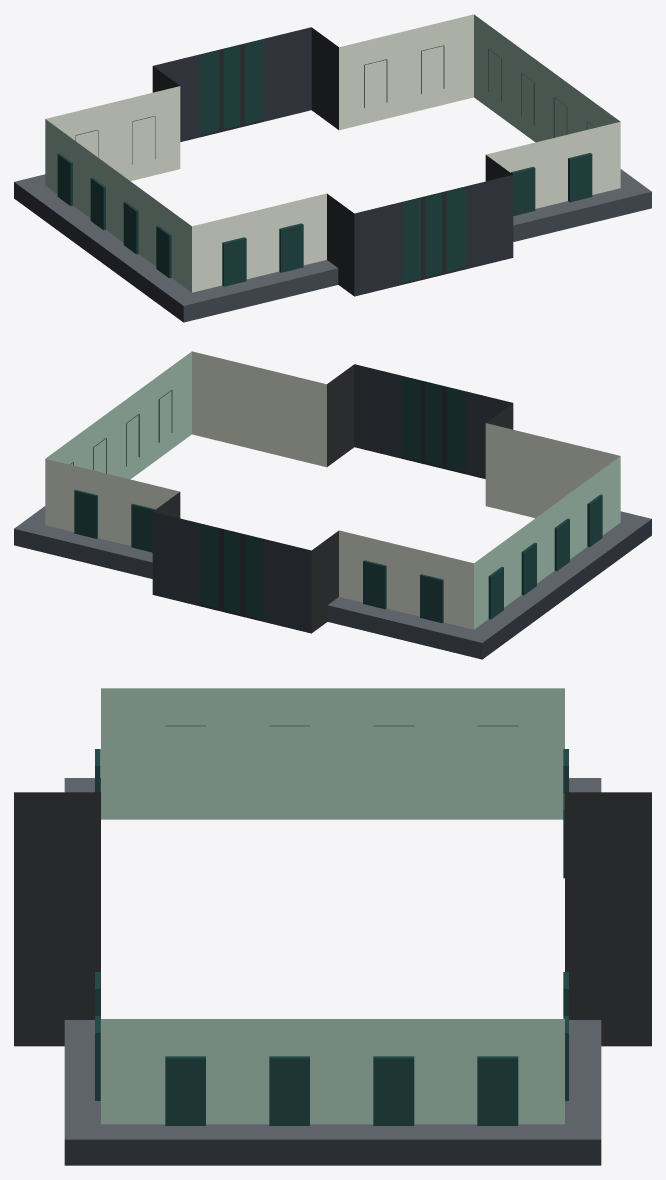
The model's file is TB_CITY_Skysc_G_BodyB_Green.FBX.
3 views of the same model, one above another, from view 1: azimuth 30°, elevation 25°; view 2: azimuth 150°, elevation 25°; view 3: azimuth 270°, elevation 25° (orthographic). The views are drawn at different scales.
Parts seen in each view (by area): view 1: TB_CITY_Skysc_G_BodyB_Green; view 2: TB_CITY_Skysc_G_BodyB_Green; view 3: TB_CITY_Skysc_G_BodyB_Green.
Boxes of the visible parts, <box> form: TB_CITY_Skysc_G_BodyB_Green: <box>14,14,651,322</box>; TB_CITY_Skysc_G_BodyB_Green: <box>14,351,651,659</box>; TB_CITY_Skysc_G_BodyB_Green: <box>14,688,651,1165</box>.
Bounding box in the file's own units: 29.5 × 5 × 22.
